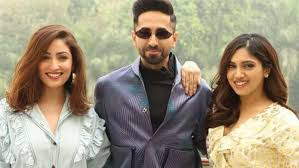Bad: (1, 1, 200, 168), (100, 1, 299, 168)
